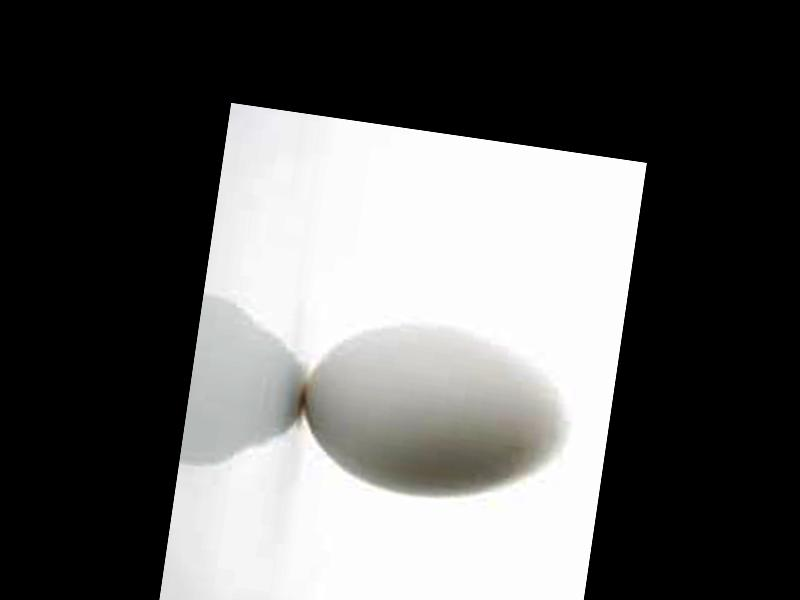Eggs: (292, 314, 577, 515)
